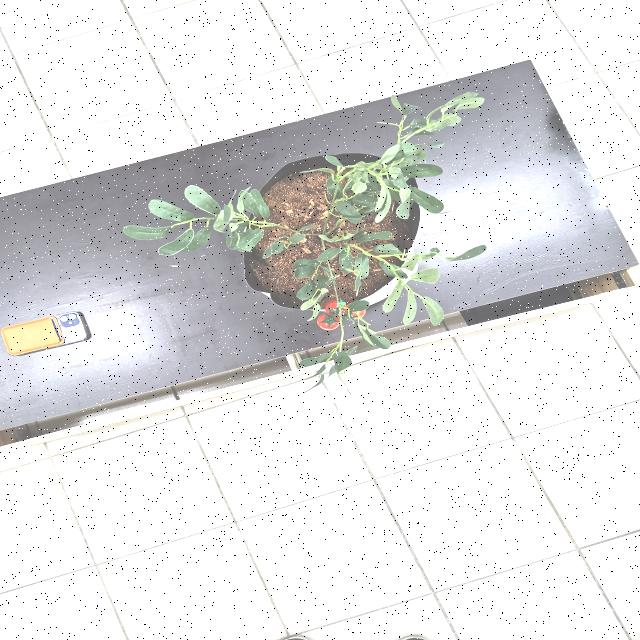Soilbag: (243, 157, 420, 331)
plant: (115, 93, 488, 402)
